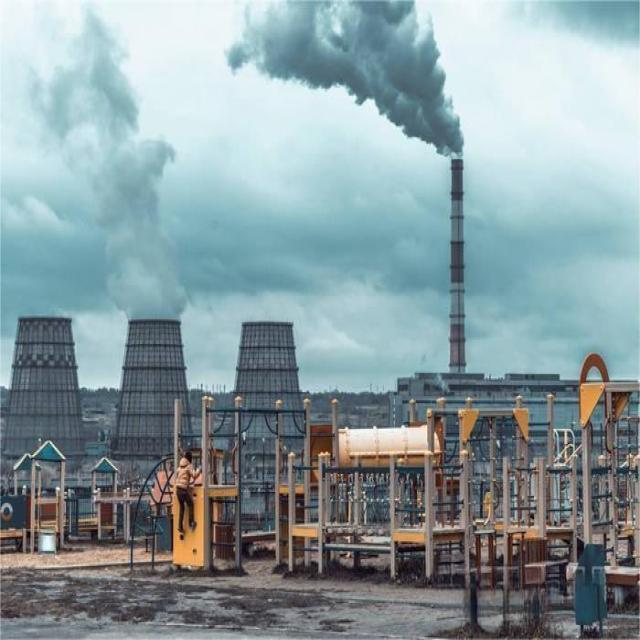Smoke: (24, 15, 188, 317), (227, 0, 462, 158)
